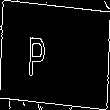P_N: (45, 29, 65, 81)
